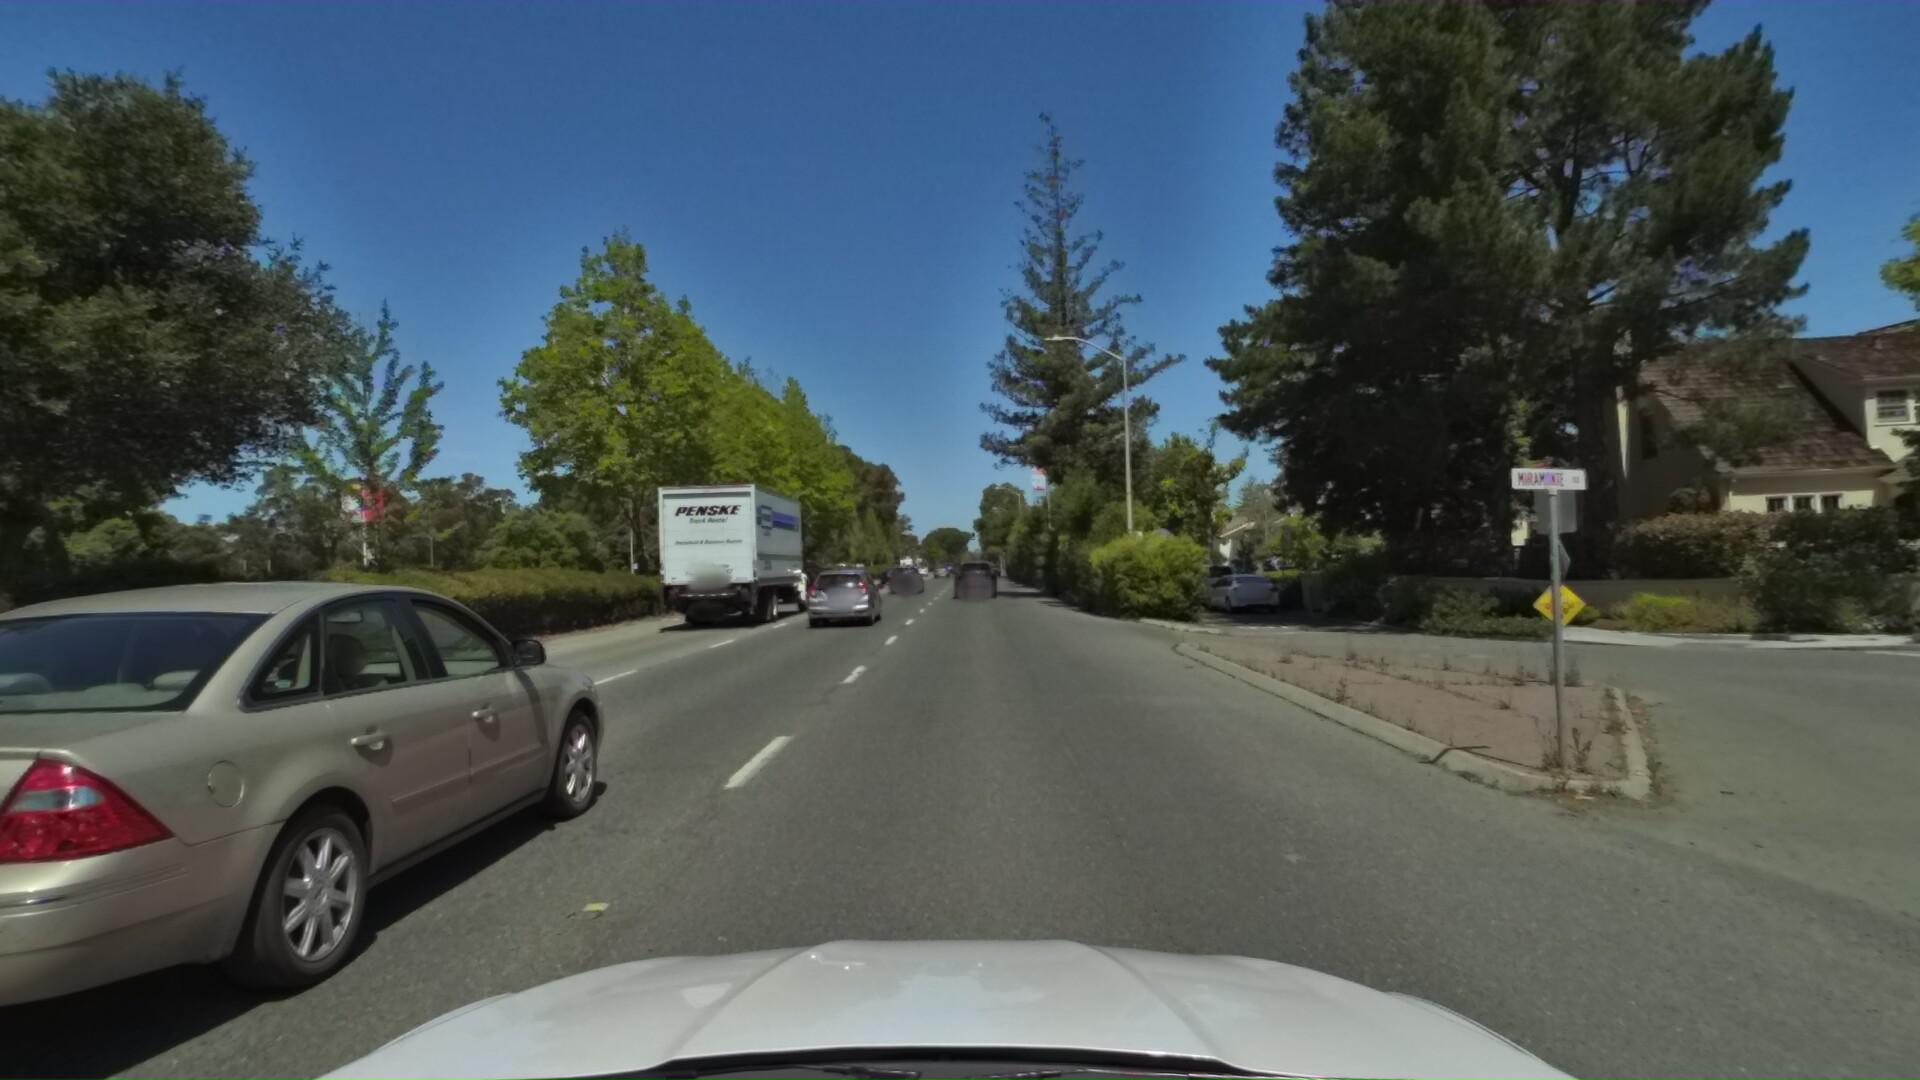car: (798, 566, 886, 632), (1203, 567, 1287, 620), (1178, 560, 1255, 611), (945, 556, 1000, 603), (881, 560, 924, 596), (876, 564, 905, 585)
truck: (647, 476, 824, 636)
